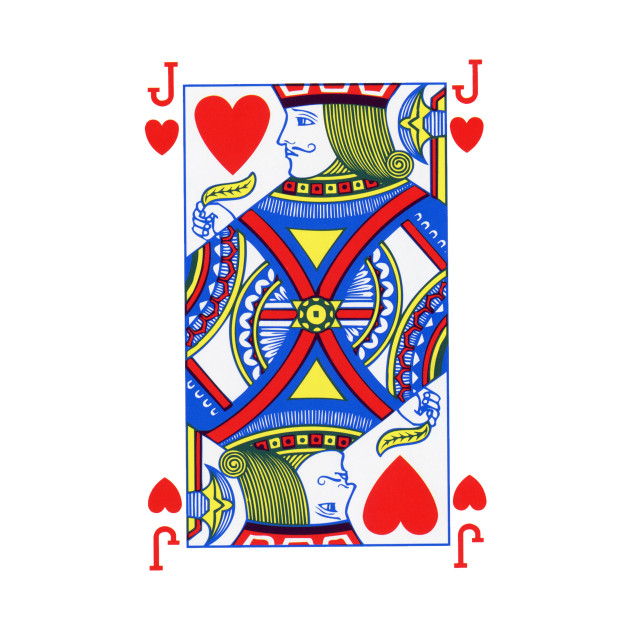jack of hearts: (132, 46, 499, 589)
